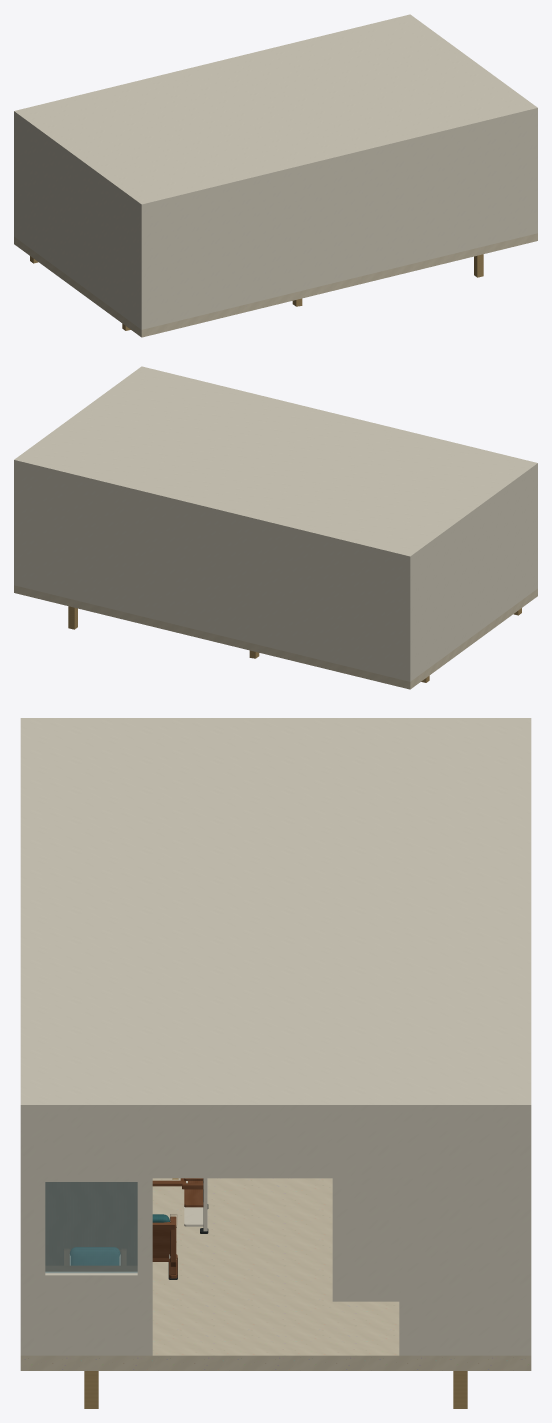
File: StarAtlasSpecialty_401.glb
3 renders of one model, top to bottom at view 1: azimuth 30°, elevation 25°; view 2: azimuth 150°, elevation 25°; view 3: azimuth 270°, elevation 25°, orthographic. The views are drawn at different scales.
Visible parts, largest first — view 1: SA401_Ceiling, SA401_NorthSide, SA401_OpaqueRearBoundary, SA401_RoomFloor; view 2: SA401_Ceiling, SA401_SouthSide, SA401_OpaqueRearBoundary, SA401_RoomFloor; view 3: SA401_Ceiling, SA401_RoomFloor, SA401_EntryShoulderSouth, SA401_EntryHeader, SA401_StreetWindowLower, SA401_ScreenedStreetGlass, SA401_WashEntrySide, SA401_StreetWindowUpper, SA401_EntryPrivacyDogleg, SA401_NorthSide, SA401_SouthSide, SA401_StreetWindowOuterPier (+2 smaller).
Part boxes in pixels (bbox=[...]): SA401_Ceiling: bbox=[14, 14, 537, 209]; SA401_NorthSide: bbox=[139, 113, 537, 329]; SA401_OpaqueRearBoundary: bbox=[16, 118, 139, 327]; SA401_RoomFloor: bbox=[14, 233, 537, 337]; SA401_Ceiling: bbox=[14, 366, 537, 561]; SA401_SouthSide: bbox=[14, 465, 412, 681]; SA401_OpaqueRearBoundary: bbox=[412, 470, 535, 679]; SA401_RoomFloor: bbox=[14, 585, 537, 689]; SA401_Ceiling: bbox=[20, 718, 531, 1115]; SA401_RoomFloor: bbox=[20, 1178, 531, 1370]; SA401_EntryShoulderSouth: bbox=[399, 1115, 522, 1355]; SA401_EntryHeader: bbox=[148, 1115, 403, 1178]; SA401_StreetWindowLower: bbox=[29, 1272, 152, 1355]; SA401_ScreenedStreetGlass: bbox=[45, 1182, 137, 1272]; SA401_WashEntrySide: bbox=[332, 1178, 399, 1301]; SA401_StreetWindowUpper: bbox=[29, 1115, 152, 1181]; SA401_EntryPrivacyDogleg: bbox=[45, 1182, 137, 1265]; SA401_NorthSide: bbox=[20, 1115, 28, 1355]; SA401_SouthSide: bbox=[523, 1115, 531, 1355]; SA401_StreetWindowOuterPier: bbox=[29, 1182, 45, 1275].
Bounding box in the file's own units: 12.9 × 5.31 × 7.2.
67 materials, 49 textured.
